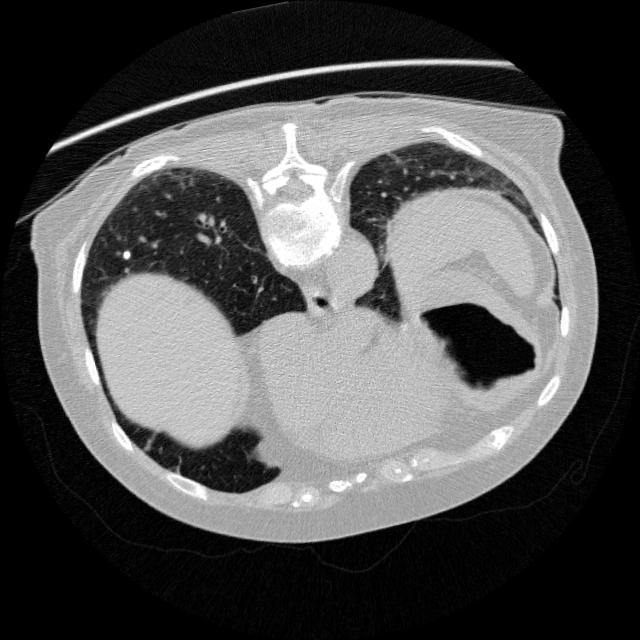nodule: (111, 243, 137, 269)
